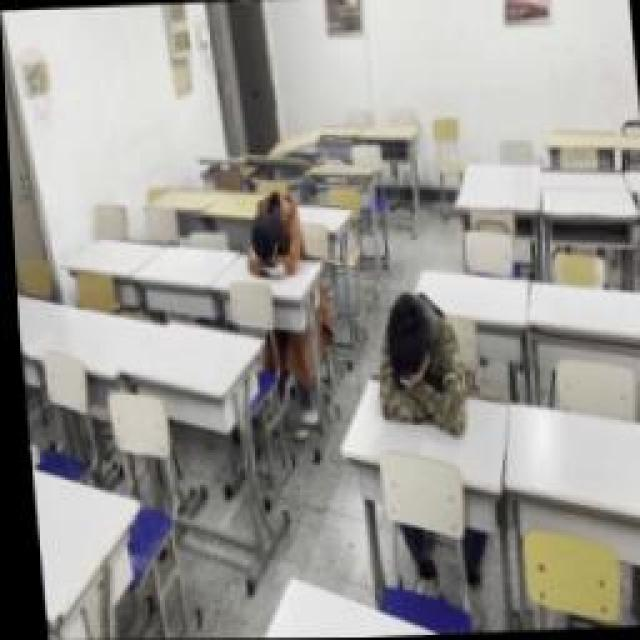sleep: (362, 290, 468, 448), (240, 190, 305, 282)
